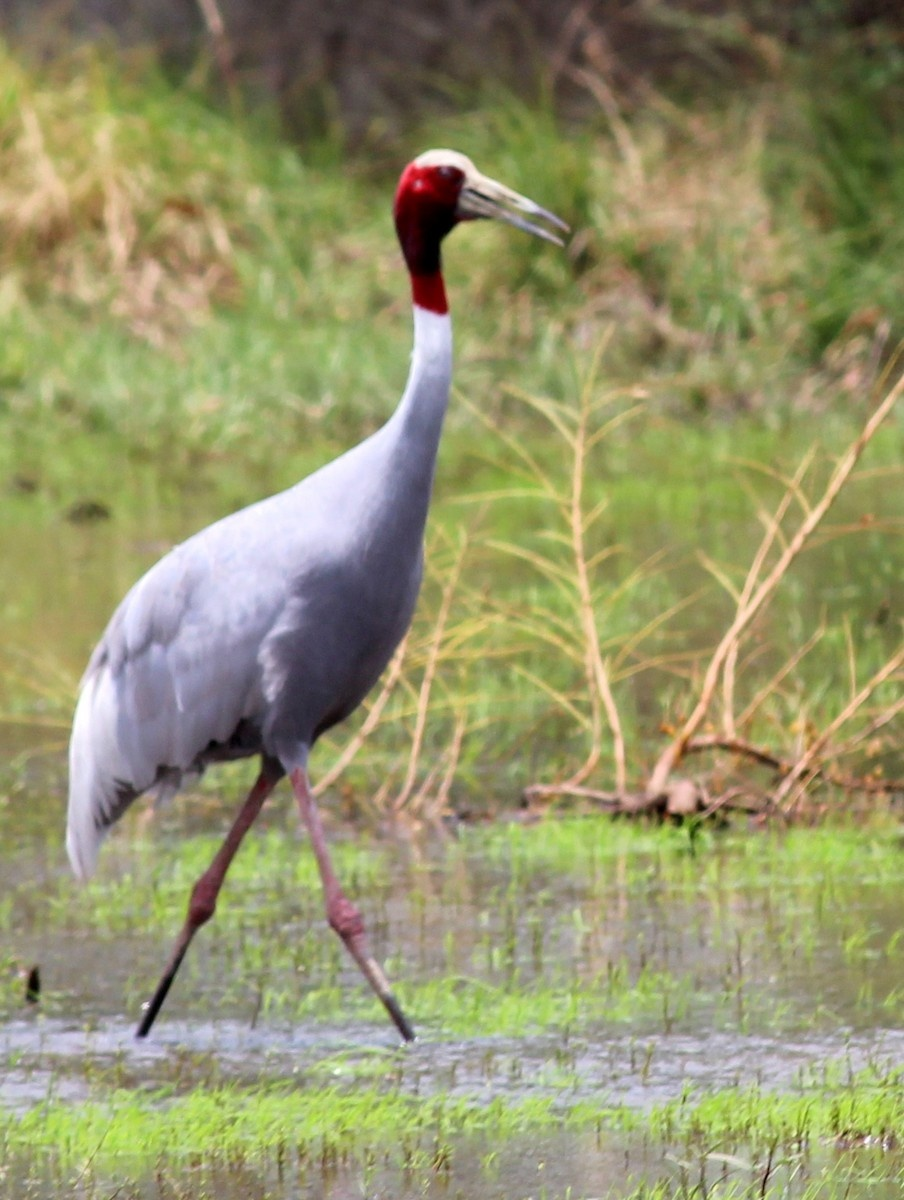crane: (77, 145, 577, 1075)
